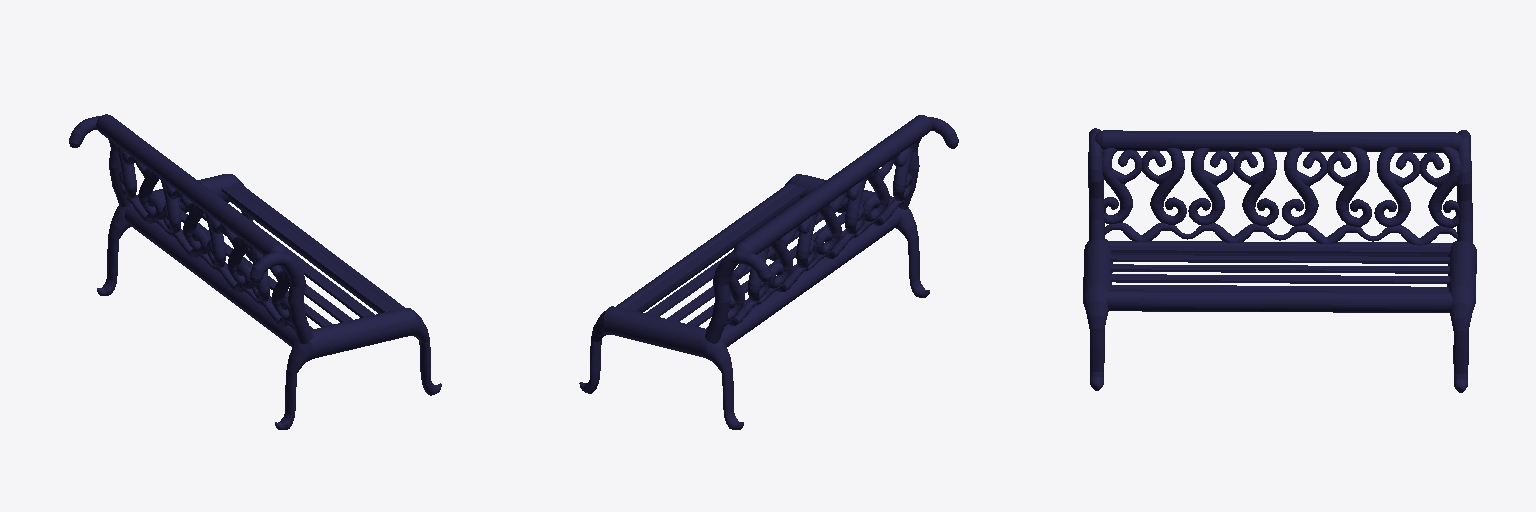
3 views of the same model, side by side, from view 1: azimuth 30°, elevation 25°; view 2: azimuth 150°, elevation 25°; view 3: azimuth 270°, elevation 25° (orthographic).
Visible parts, largest first — view 1: Bench_Plane_001; view 2: Bench_Plane_001; view 3: Bench_Plane_001.
Boxes of the visible parts, <box> form: Bench_Plane_001: <box>69,114,441,429</box>; Bench_Plane_001: <box>579,115,958,429</box>; Bench_Plane_001: <box>1083,128,1476,392</box>.
Bounding box in the file's own units: 0.6389 × 0.5756 × 1.11.
Materials: 1 (1 with a texture image).